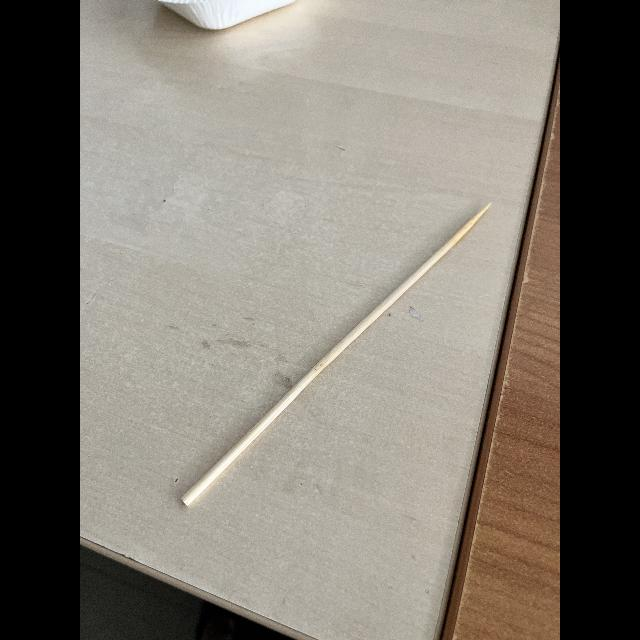stick: (174, 194, 498, 516)
